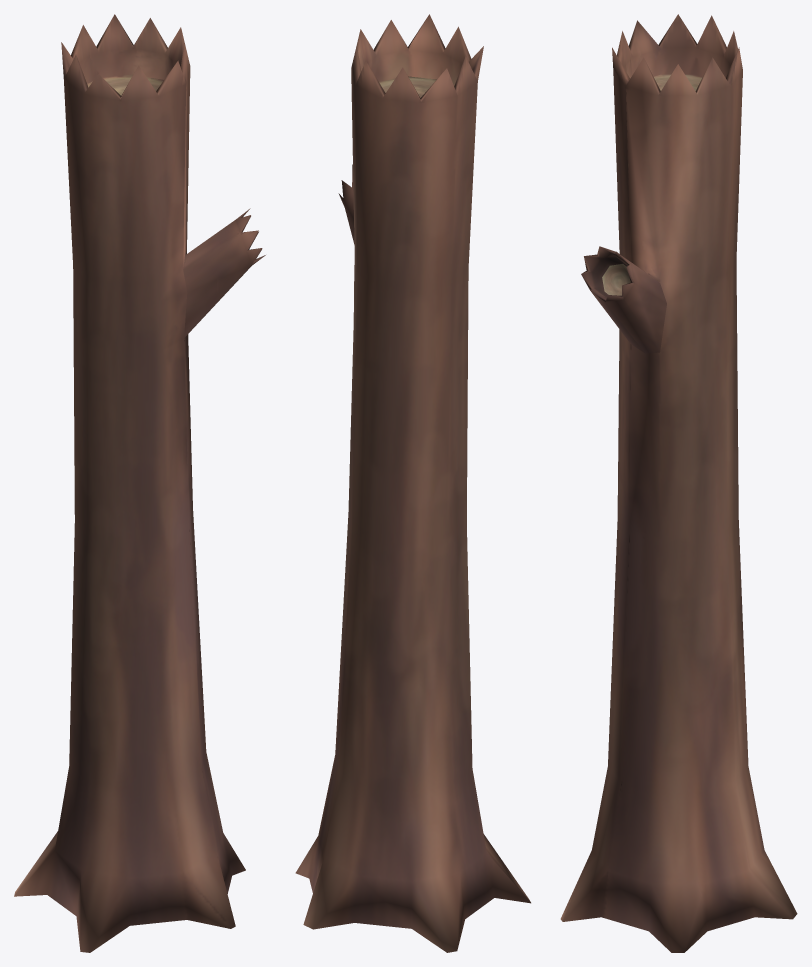
Rendered from TreeTrunk.fbx.
3 views of the same model, side by side, from view 1: azimuth 30°, elevation 25°; view 2: azimuth 150°, elevation 25°; view 3: azimuth 270°, elevation 25° (orthographic).
Parts seen in each view (by area): view 1: Cylinder; view 2: Cylinder; view 3: Cylinder.
Boxes of the visible parts, <box> form: Cylinder: <box>14,14,265,952</box>; Cylinder: <box>295,14,530,952</box>; Cylinder: <box>560,14,797,952</box>.
Size of the model in its own units: 2.14 by 8.95 by 2.21.
